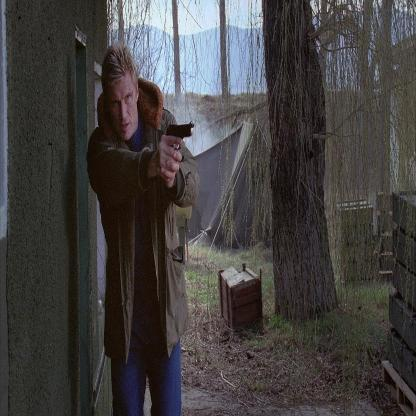gun: (162, 108, 200, 157)
